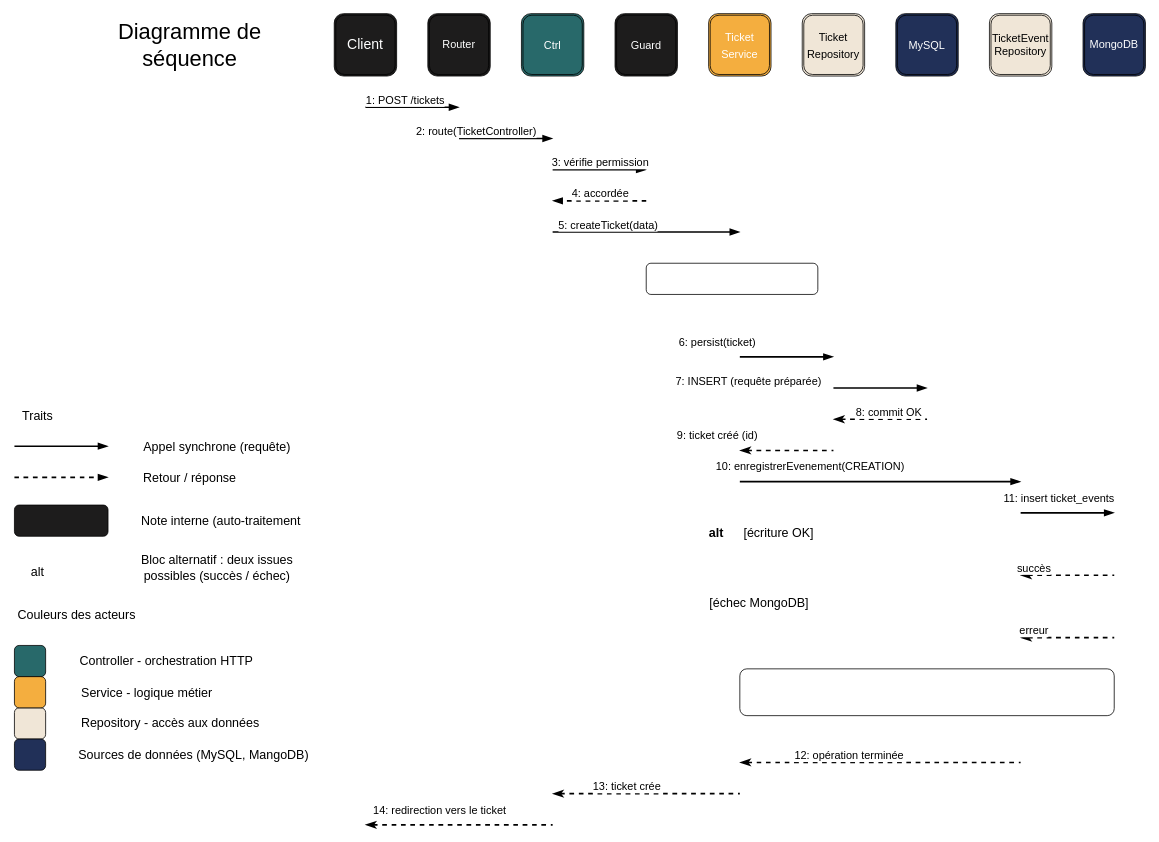
The diagram is 1159 pixels wide and 842 high, and some of its shapes have lost their labels. Each missing label, with the centre of its shape:
Calcule priorité statut = NOUVEAU: (x=731, y=278)
journalise l'erreur, n'interrompt pas l'opération: (x=926, y=692)
